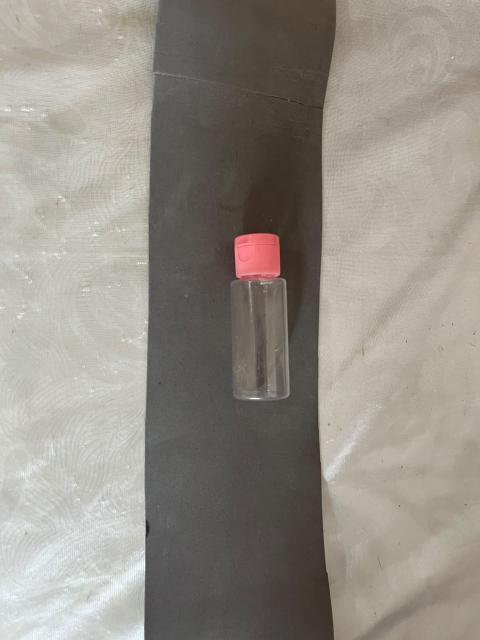PET: (175, 173, 365, 529)
